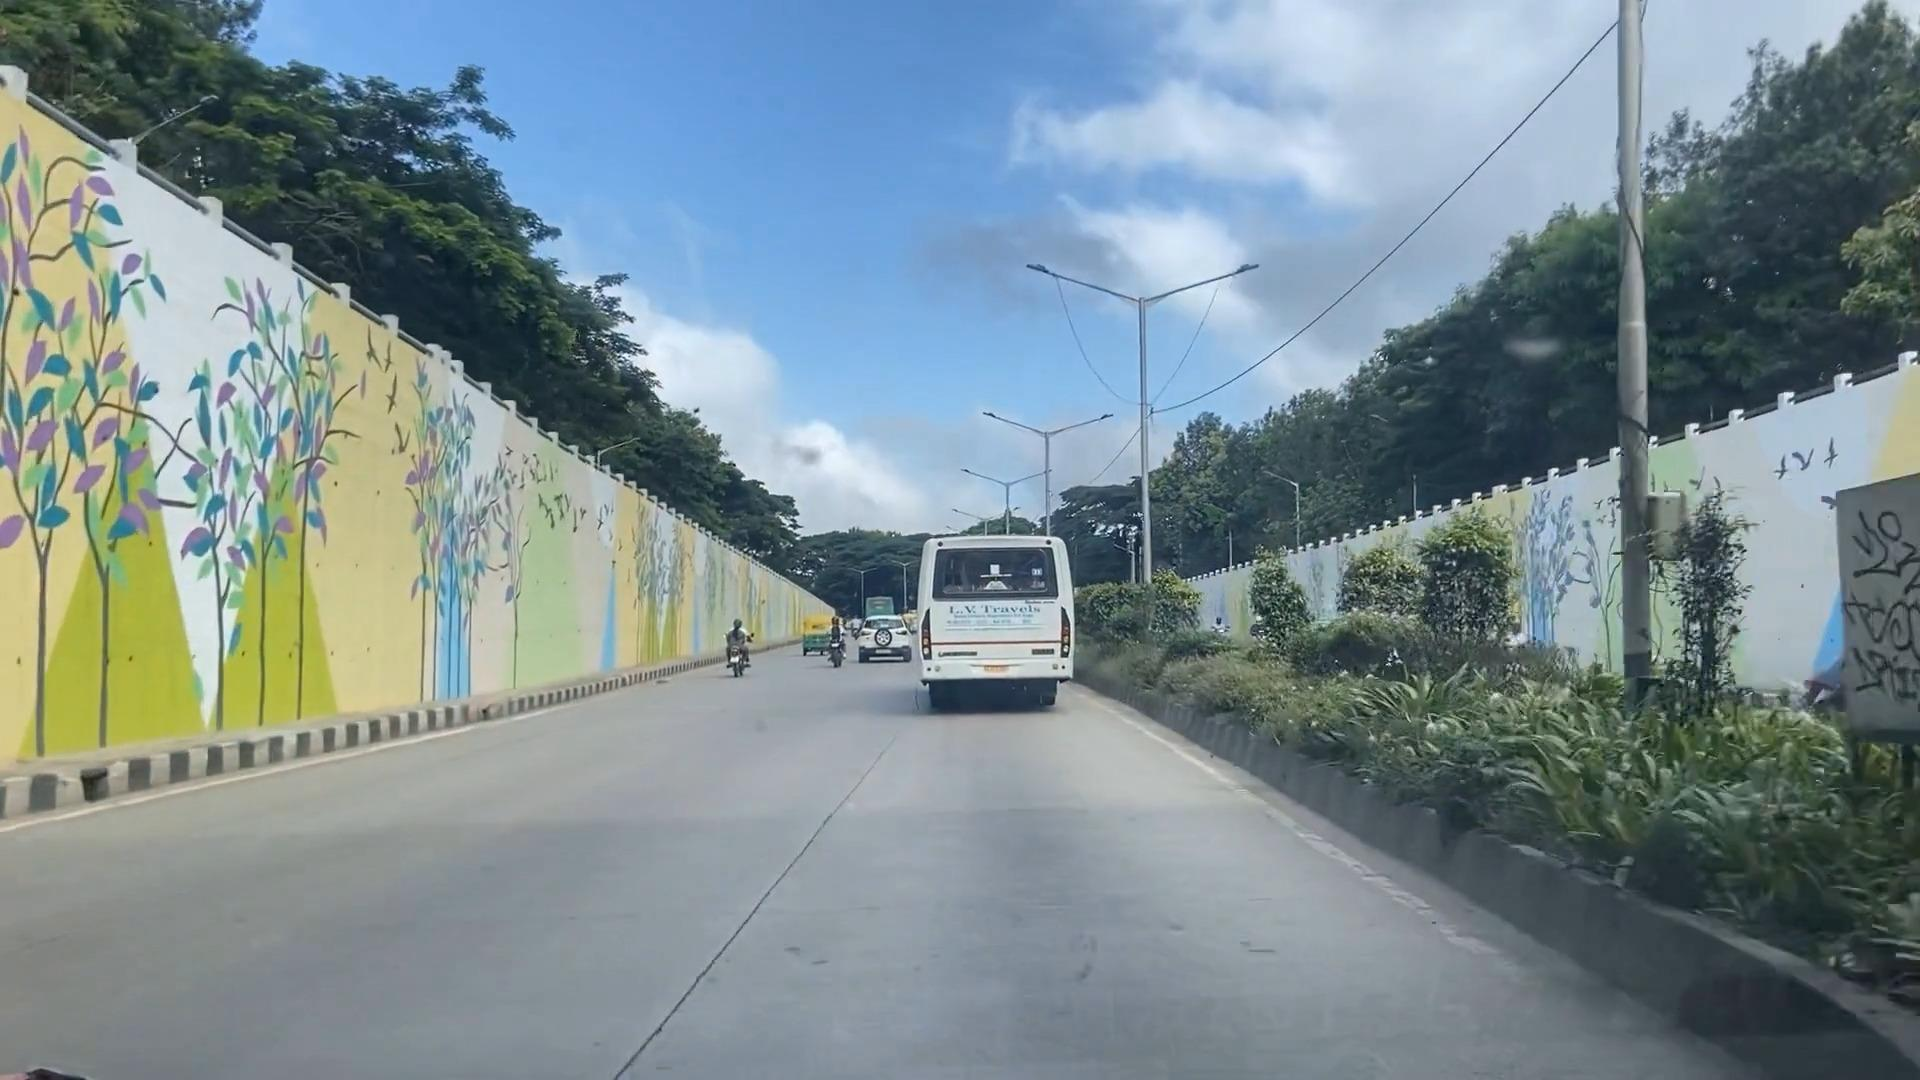HMV: (907, 531, 1076, 713)
